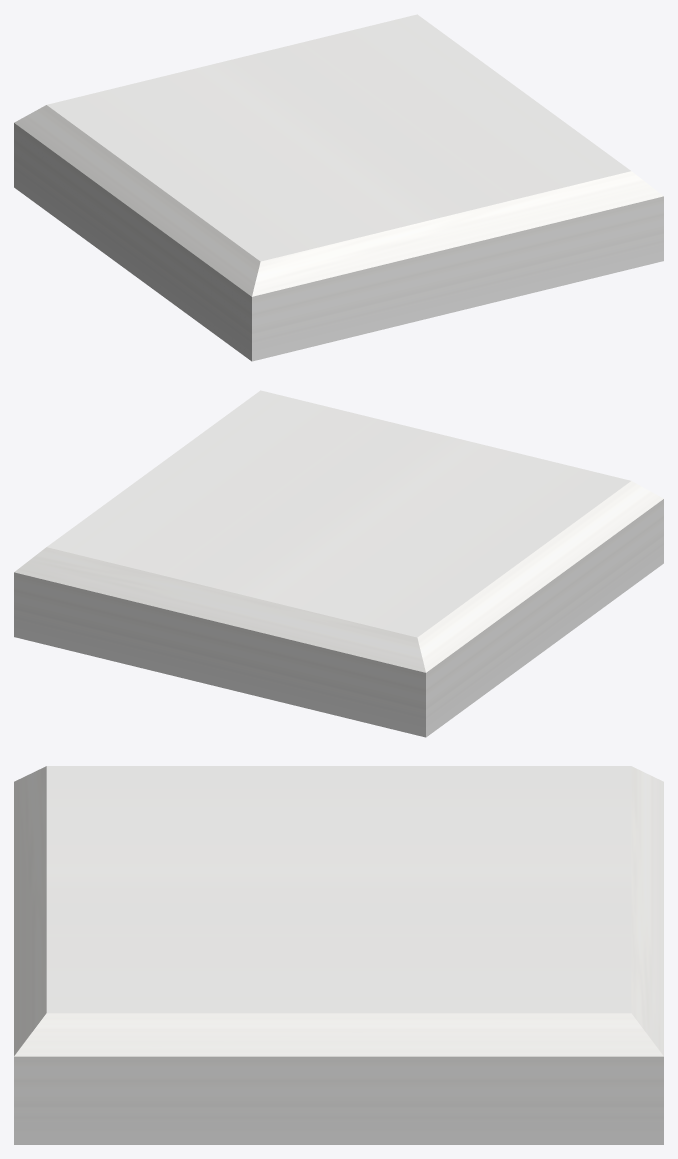
3 renders of one model, top to bottom at view 1: azimuth 30°, elevation 25°; view 2: azimuth 150°, elevation 25°; view 3: azimuth 270°, elevation 25°, orthographic. The views are drawn at different scales.
Parts seen in each view (by area): view 1: tile; view 2: tile; view 3: tile.
Boxes of the visible parts, x1,y1,x2,y2 form: tile: (14,14,663,361); tile: (14,390,663,737); tile: (14,766,663,1144).
Size of the model in its own units: 1 by 0.2 by 1.
1 material, 1 textured.
